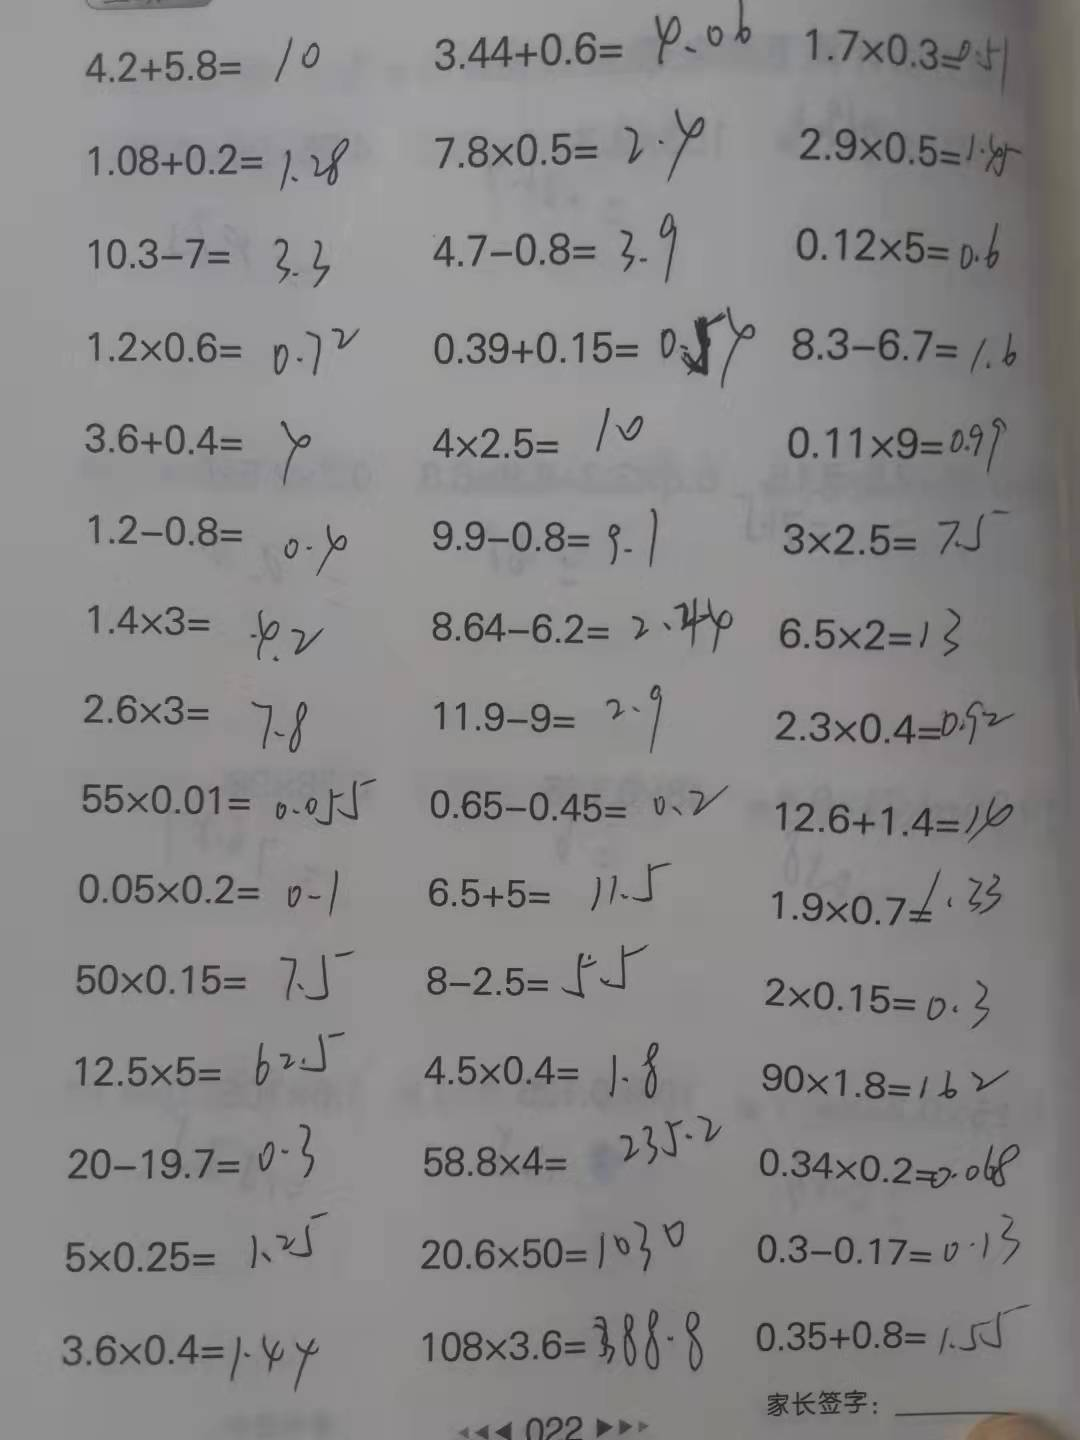equation: (417, 314, 769, 397), (398, 1113, 735, 1187), (423, 1, 763, 74), (416, 1196, 711, 1278), (431, 105, 709, 190), (742, 1290, 1041, 1367), (64, 1113, 320, 1200), (414, 209, 691, 287), (65, 1205, 332, 1286), (413, 1304, 718, 1374), (52, 1318, 329, 1395), (414, 592, 743, 657), (87, 503, 355, 582), (68, 855, 354, 927), (745, 1208, 1033, 1278), (415, 1025, 666, 1106), (73, 406, 315, 489), (70, 1031, 360, 1100), (71, 680, 317, 761), (742, 1133, 1026, 1202), (788, 111, 1033, 190), (81, 128, 364, 196), (761, 861, 1011, 937), (422, 927, 653, 1009), (414, 853, 681, 923), (771, 685, 1026, 759), (784, 403, 1010, 485), (57, 952, 368, 1013), (417, 678, 670, 752), (756, 959, 1001, 1035), (420, 501, 670, 574), (73, 776, 387, 833), (71, 23, 324, 94), (70, 324, 376, 383), (788, 305, 1026, 380), (78, 228, 335, 296), (82, 591, 327, 661), (417, 776, 740, 828), (800, 15, 1016, 91), (753, 1050, 1016, 1111), (770, 505, 1009, 571), (427, 406, 663, 473), (778, 213, 1010, 280), (768, 789, 1031, 847), (773, 598, 972, 664)
